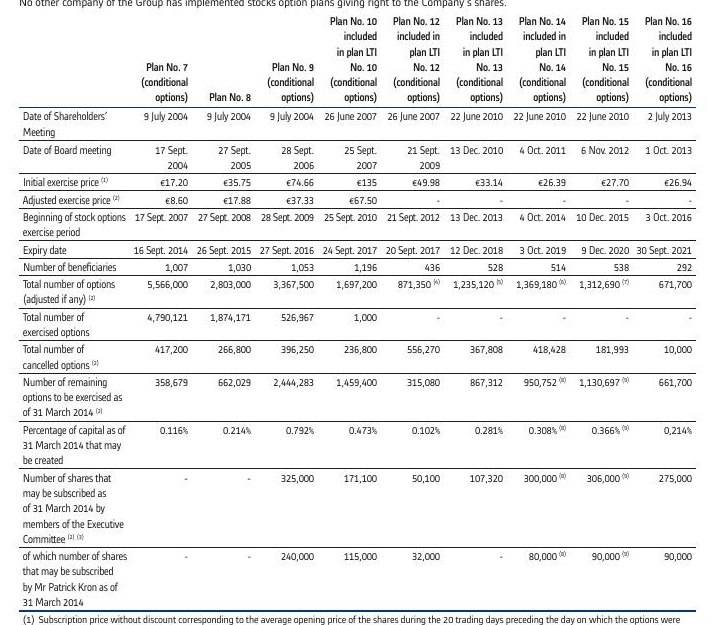table: (0, 0, 720, 625)
